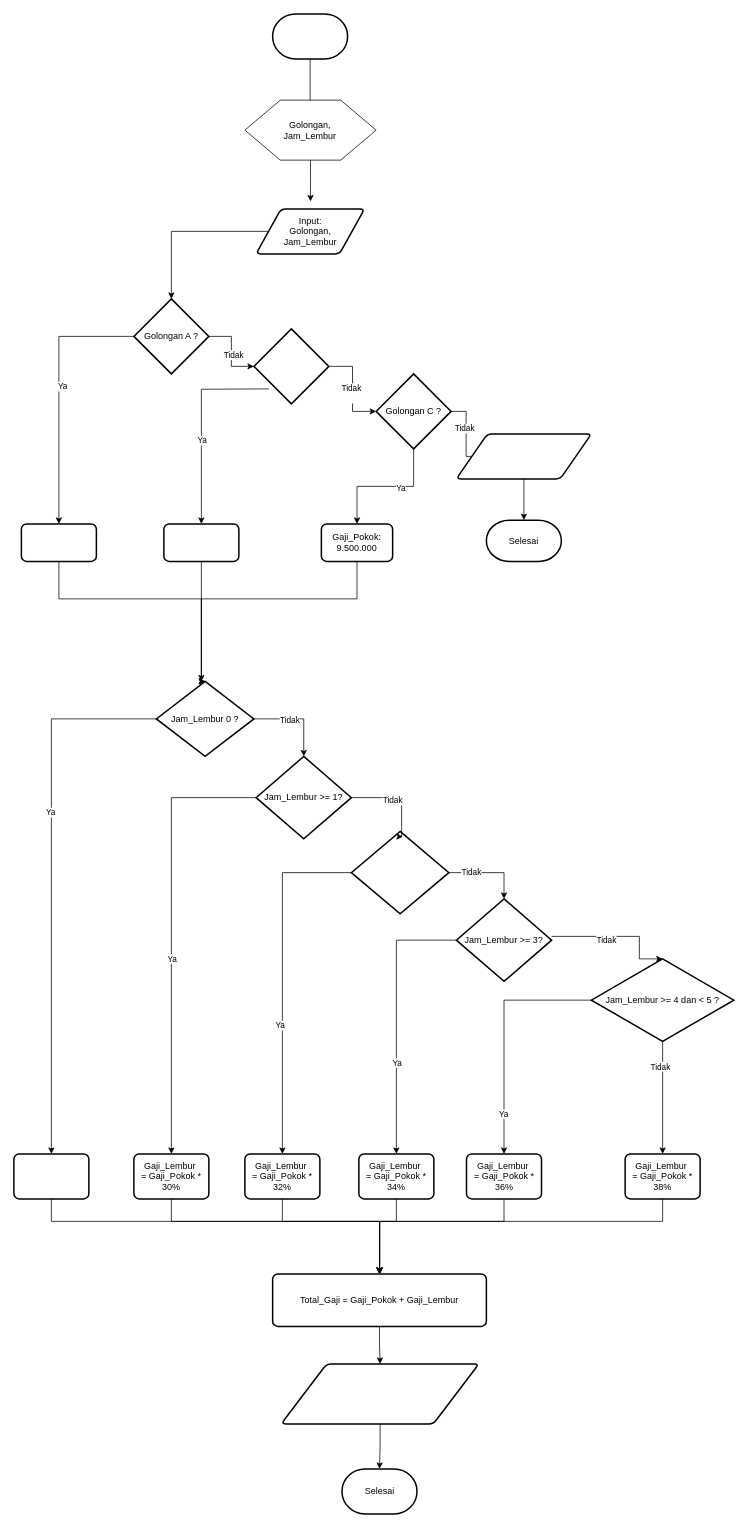
Image size: 747x1527. Some labels were removed from this diagram. The box of each missing label's shape, as (x1, y1, x2, y2) in pixels:
Gaji_Lembur = 0: (13, 1153, 89, 1199)
Gaji_Pakok: 5.000.000: (20, 523, 97, 562)
Gaji_Pokok: 6.500.000: (163, 523, 239, 562)
Golongan B ?: (253, 328, 329, 404)
Jam_Lembur >= 2?: (350, 830, 449, 914)
Mulai: (272, 13, 348, 59)
Output: Golongan tidak valid: (455, 433, 592, 479)
Output: Golongan, Gaji_Pokok, Gaji_Lembur, Total_Gaji: (280, 1363, 479, 1424)
